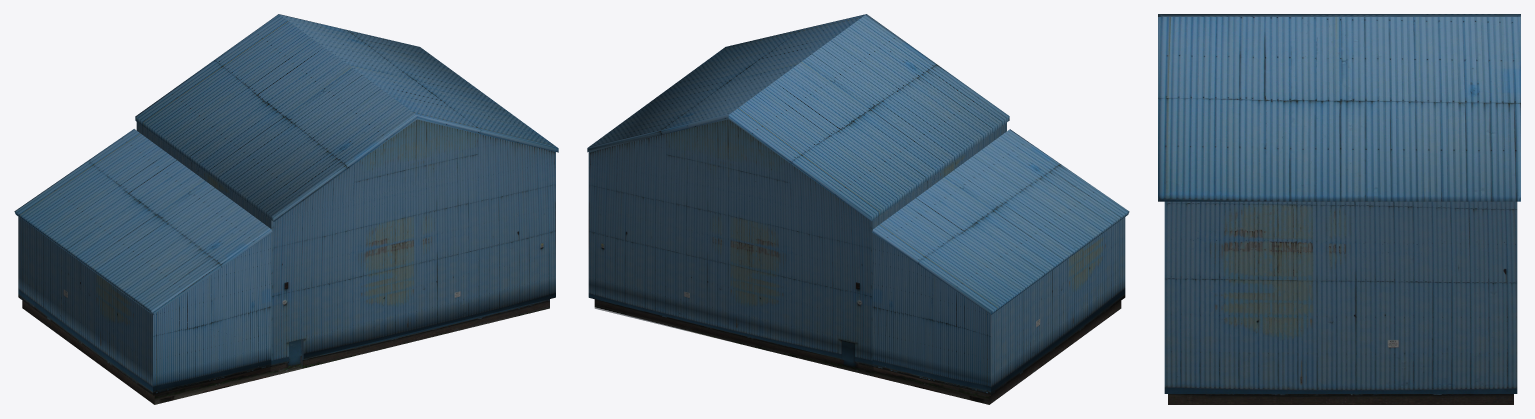
The model's file is industrial15.fbx.
The picture shows the model from 3 angles, left to right: view 1: azimuth 30°, elevation 25°; view 2: azimuth 150°, elevation 25°; view 3: azimuth 270°, elevation 25°; orthographic projection. The views are drawn at different scales.
Parts seen in each view (by area): view 1: U3DMesh; view 2: U3DMesh; view 3: U3DMesh.
Part boxes in pixels (bbox=[...]): U3DMesh: bbox=[14, 14, 558, 404]; U3DMesh: bbox=[587, 14, 1129, 404]; U3DMesh: bbox=[1158, 14, 1520, 404].
Size of the model in its own units: 1270 by 685 by 750.
1 material, 1 textured.
